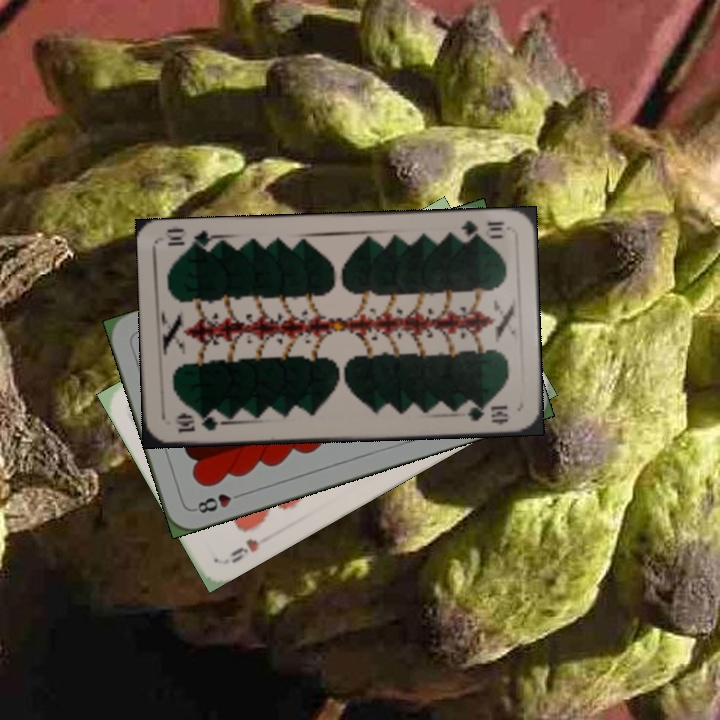G10: (457, 216, 510, 243), (170, 410, 227, 435)
H8: (189, 488, 247, 516)
H9: (226, 534, 262, 566)
